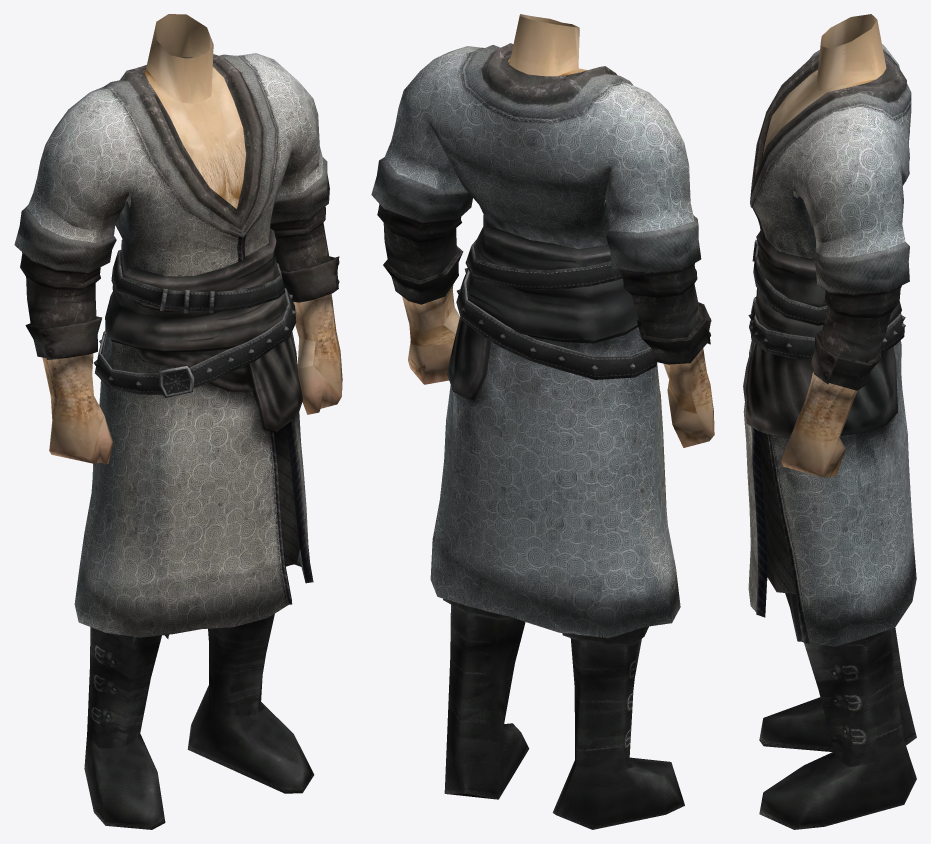
The model's file is KOSA_KONTUSZ_WHITE.glb.
3 renders of one model, left to right at view 1: azimuth 30°, elevation 25°; view 2: azimuth 150°, elevation 25°; view 3: azimuth 270°, elevation 25°, orthographic. The views are drawn at different scales.
Parts seen in each view (by area): view 1: KOSA_KONTUSZ_WHITE; view 2: KOSA_KONTUSZ_WHITE; view 3: KOSA_KONTUSZ_WHITE.
Boxes of the visible parts, left/top/right/bottom form: KOSA_KONTUSZ_WHITE: left=14, top=14, right=342, bottom=829; KOSA_KONTUSZ_WHITE: left=371, top=14, right=714, bottom=829; KOSA_KONTUSZ_WHITE: left=743, top=14, right=916, bottom=829.
Size of the model in its own units: 0.7081 by 1.69 by 0.3516.
Materials: 2 (2 with a texture image).
